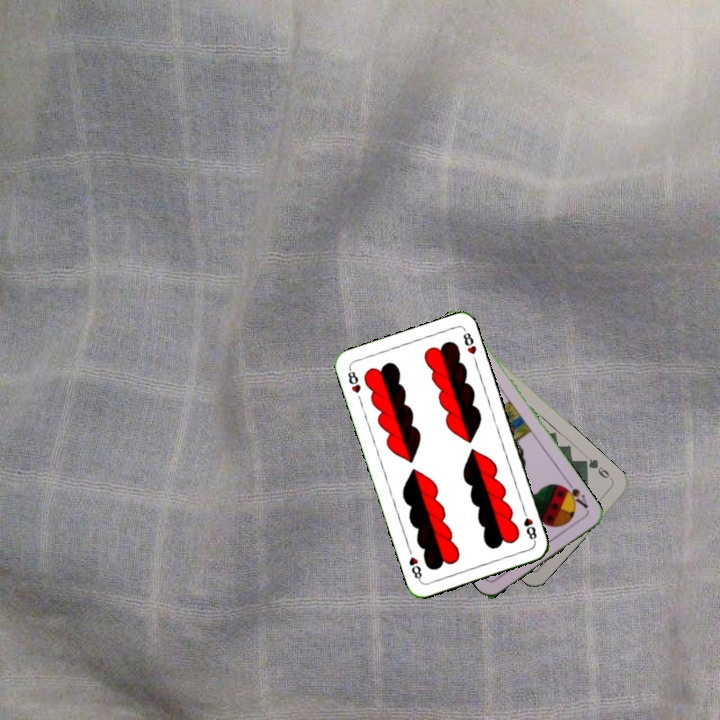G9: (580, 454, 616, 484)
H8: (519, 505, 539, 545), (344, 364, 363, 396)
SA: (558, 477, 591, 511)
